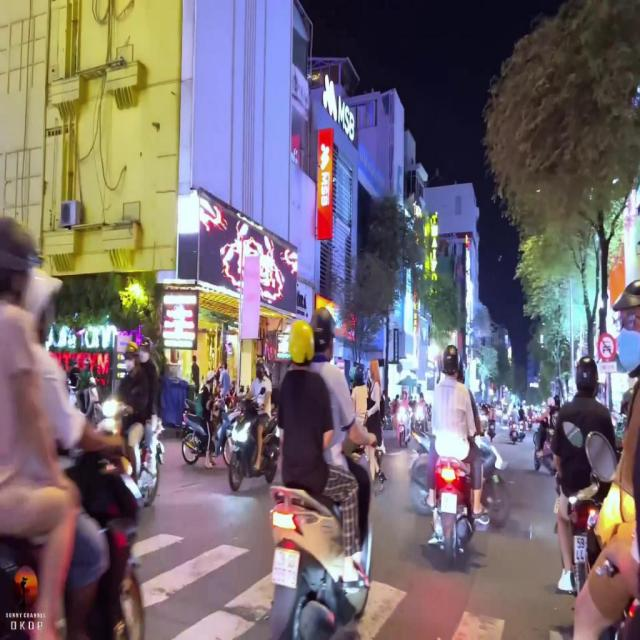cam_o_to: (597, 332, 617, 362)
khac: (598, 363, 616, 375)
